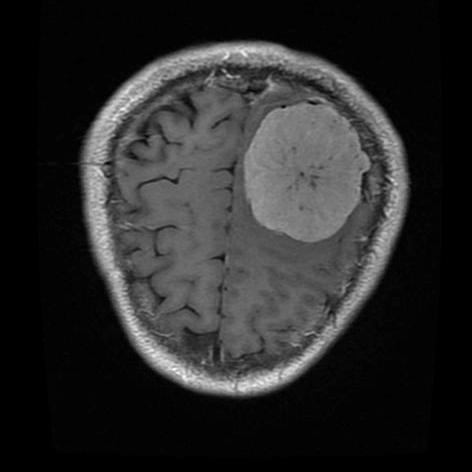Tumour-Meningioma: (211, 93, 371, 249)
